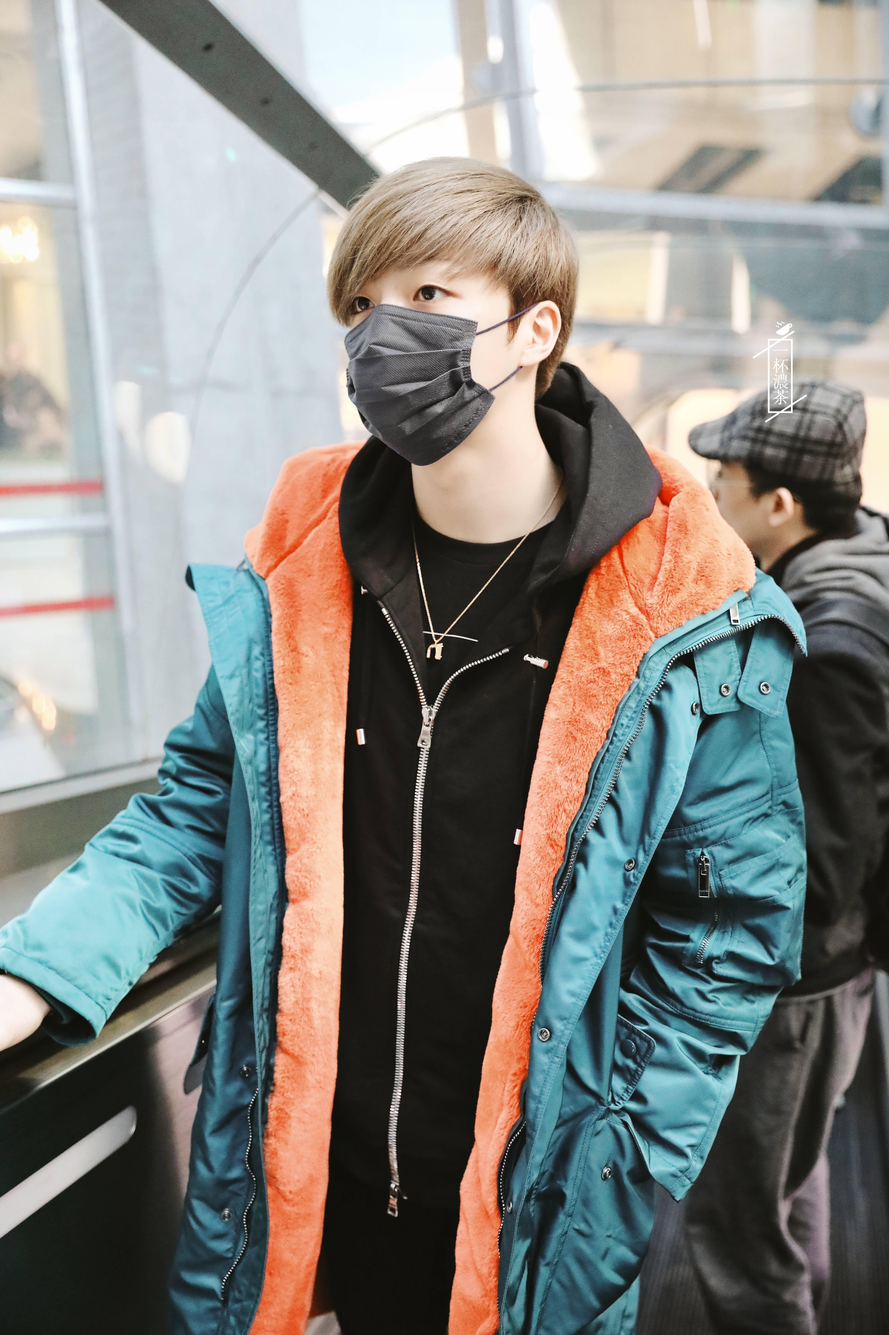NONE: (705, 468, 752, 557)
OK: (343, 251, 494, 468)
